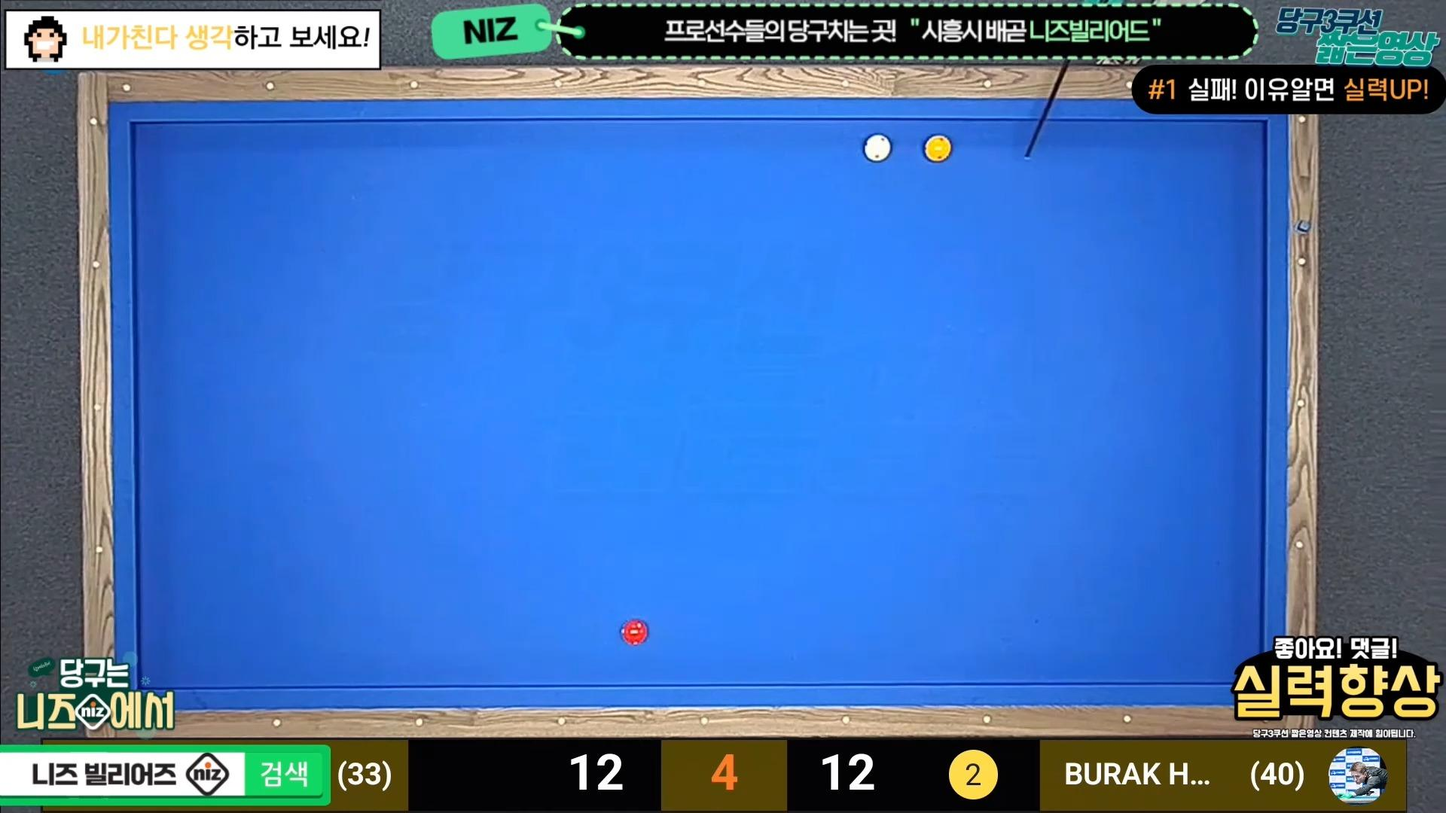Red: (621, 620, 653, 646)
White: (862, 134, 894, 163)
Yellow: (925, 134, 958, 163)
